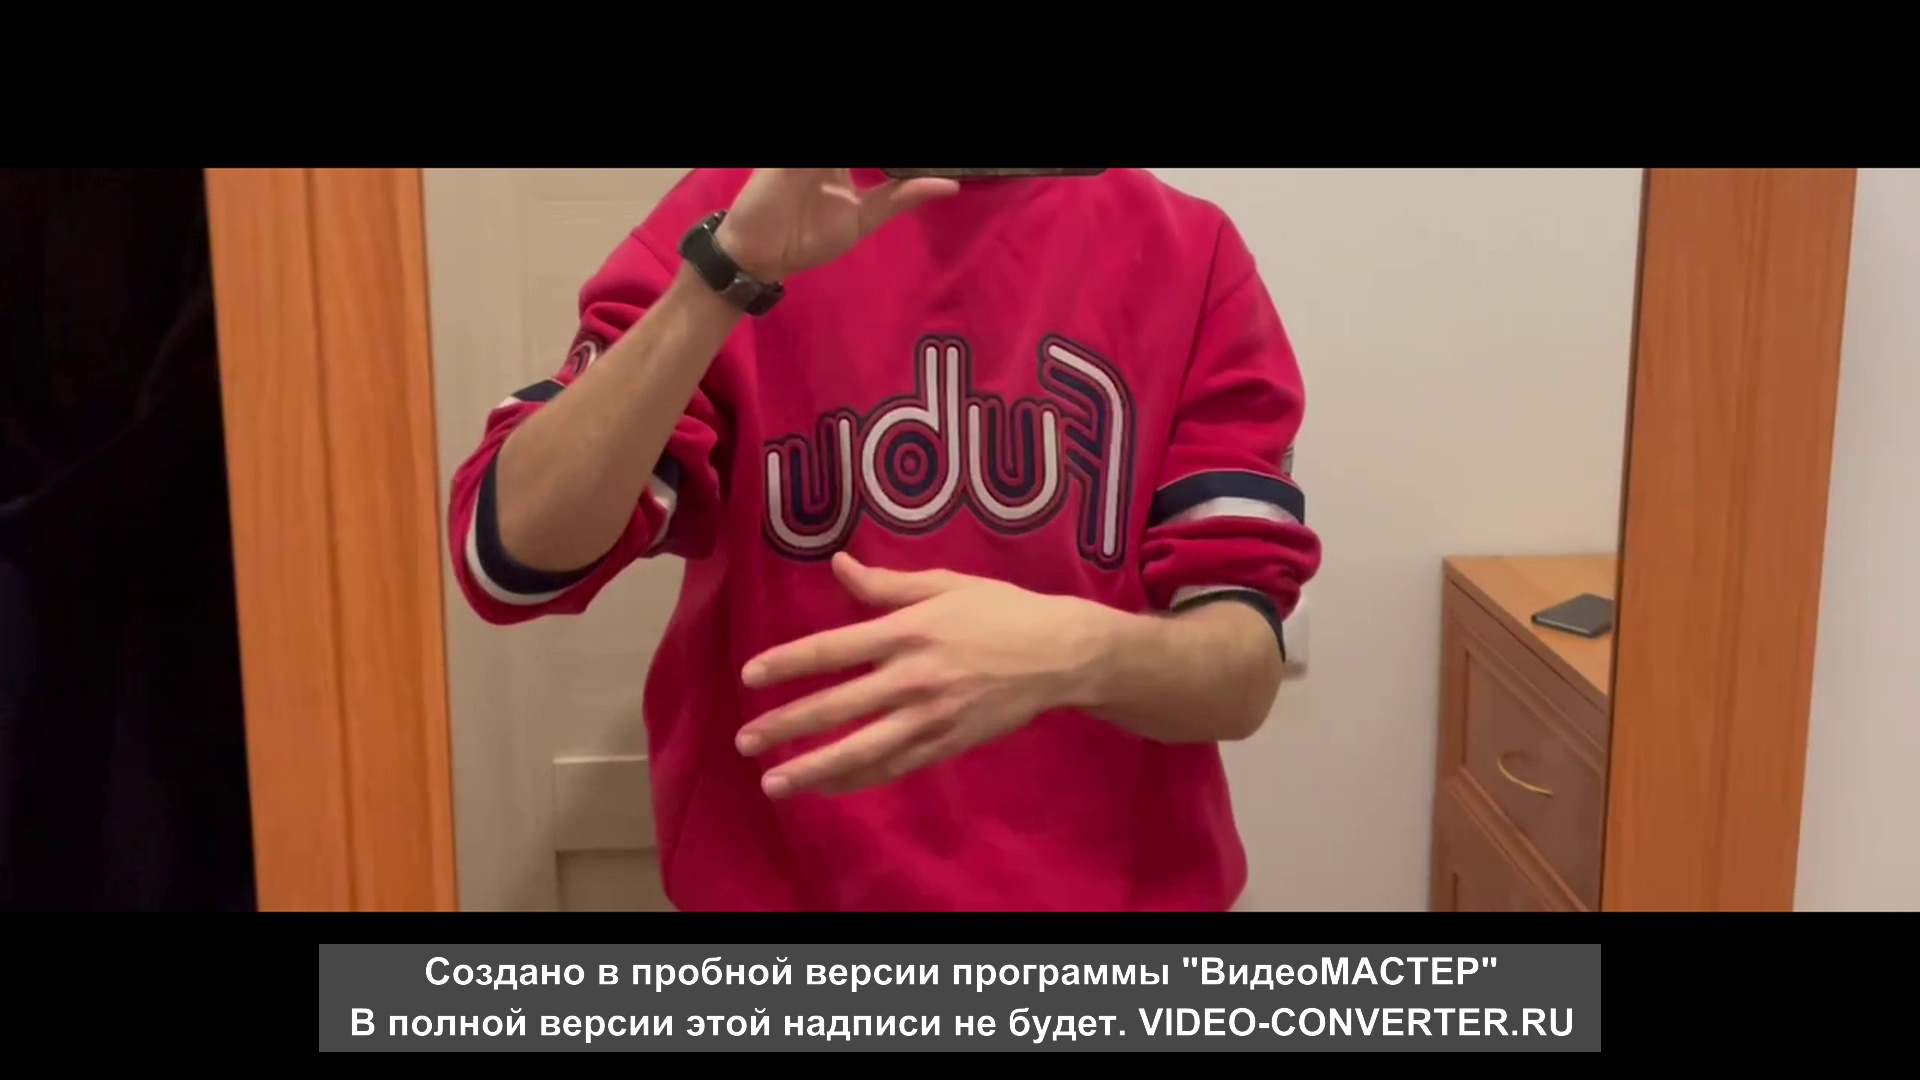Кисть: (733, 554, 1083, 799)
